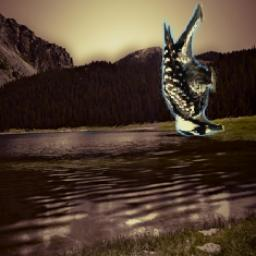Woodpecker: (158, 3, 225, 137)
